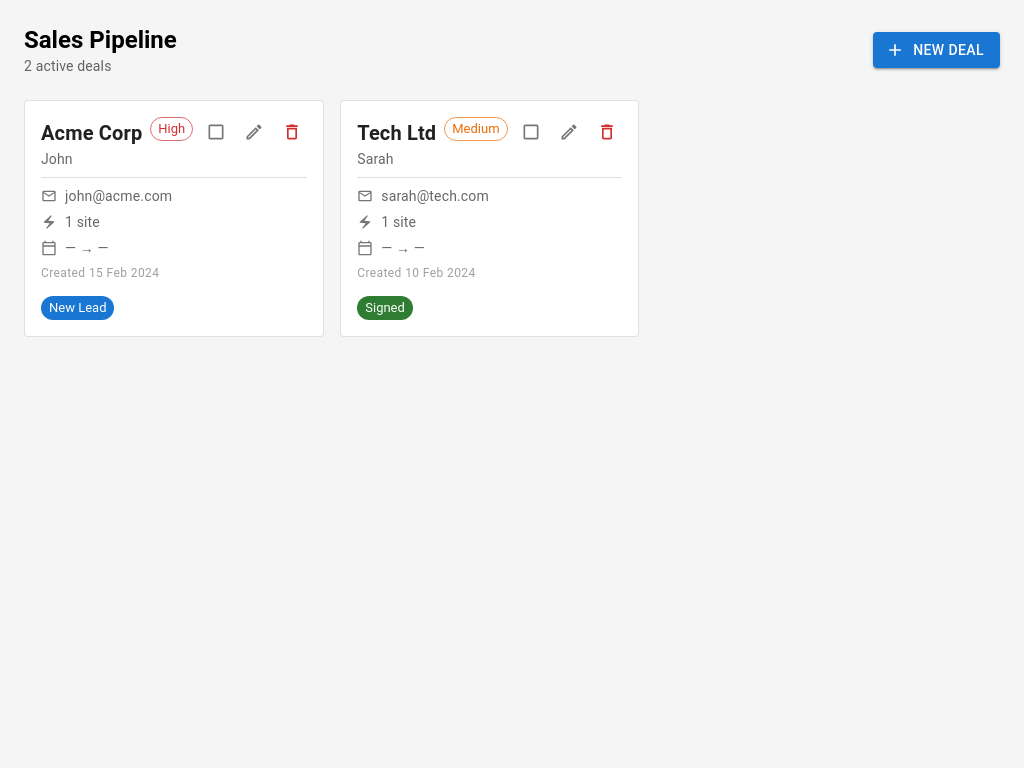
DealCardList › deleting a deal › removes a deal from the list after successful delete
Expected: the heading "Acme Corp" is shown, [41,117,142,149]
Click the button named "Delete deal" next to "High". click: point(292, 132)
box: [277,117,307,147]
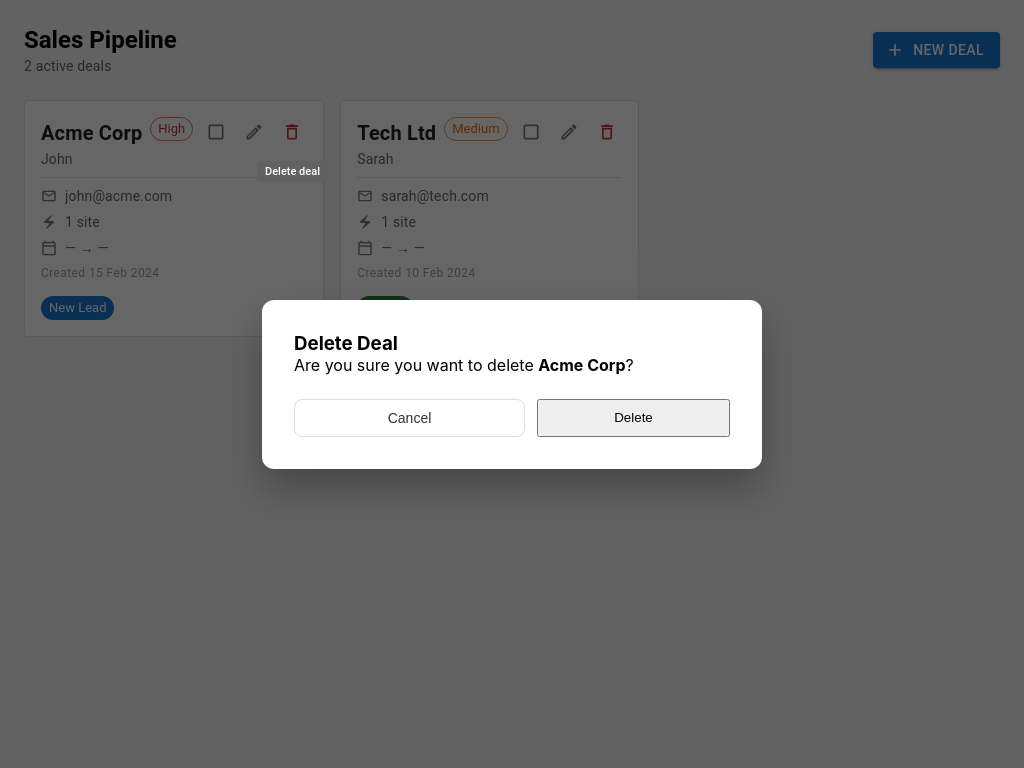
Expected: the button "Delete" is shown
Click the button "Delete". click: point(634, 418)
box: [537,398,730,436]
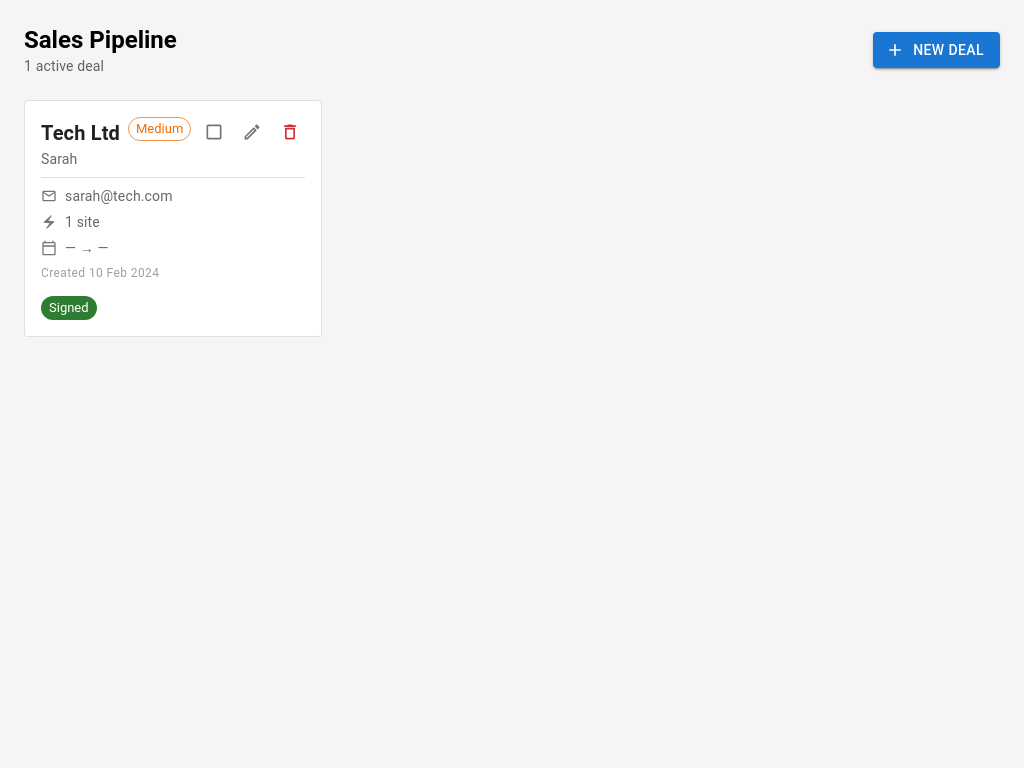
Expected: the heading "Acme Corp" is gone
